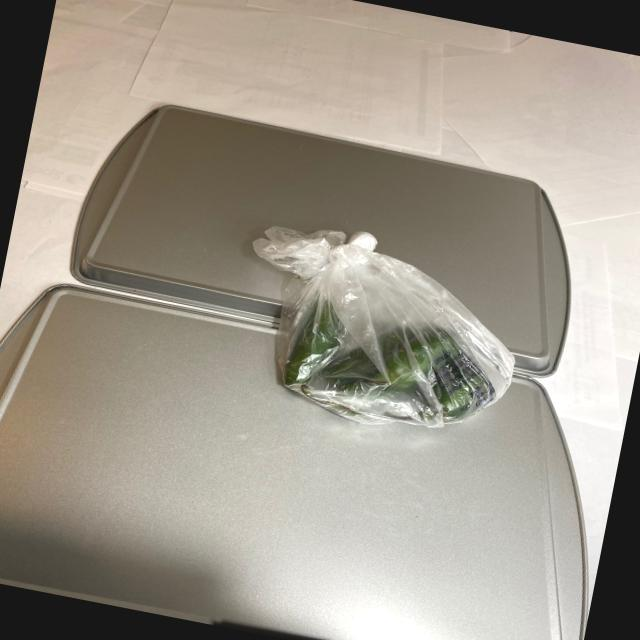chilli: (217, 216, 542, 444)
